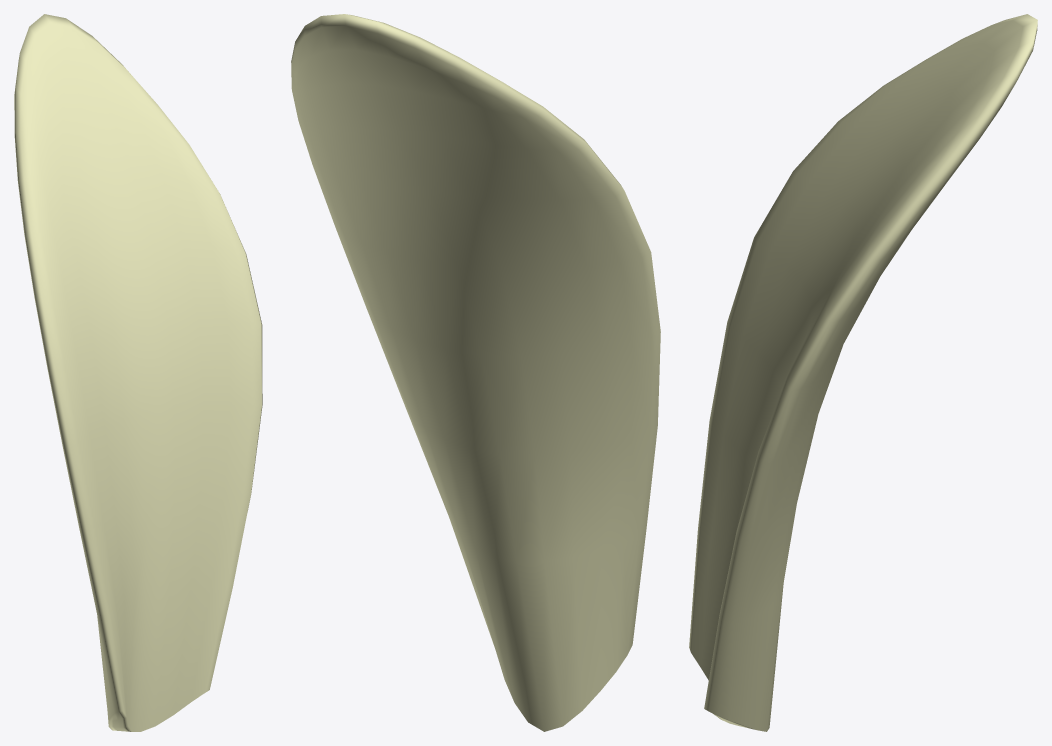
The model's file is Petal_PrimBlock_1.fbx.
The picture shows the model from 3 angles, left to right: view 1: azimuth 30°, elevation 25°; view 2: azimuth 150°, elevation 25°; view 3: azimuth 270°, elevation 25°; orthographic projection. The views are drawn at different scales.
Parts seen in each view (by area): view 1: polySurface18; view 2: polySurface18; view 3: polySurface18.
Boxes of the visible parts, box(x1,y1,x2,y2) form: polySurface18: box(14, 14, 262, 731); polySurface18: box(291, 14, 660, 731); polySurface18: box(689, 14, 1037, 731).
Size of the model in its own units: 0.155 by 0.4045 by 0.1752.
